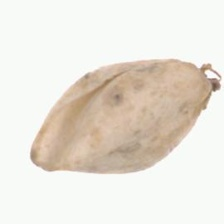L1: (28, 133, 74, 174), (194, 60, 221, 108)
L2: (28, 57, 220, 175)
